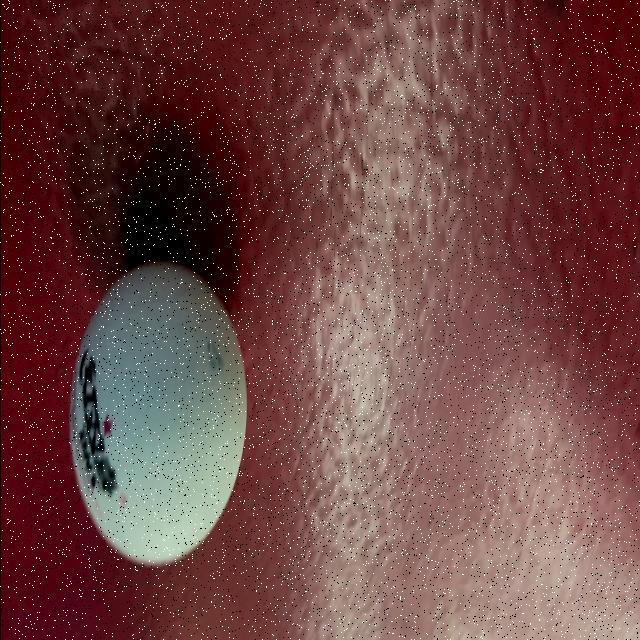ping-pong-ball: (38, 240, 256, 588)
